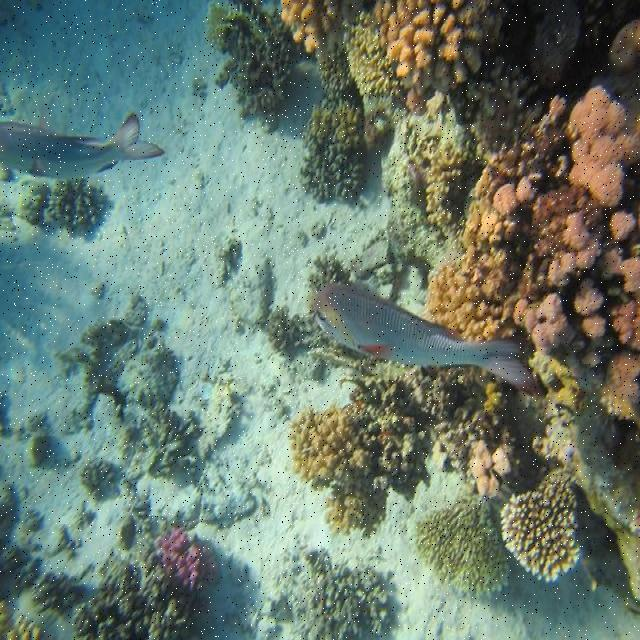fish: (311, 283, 543, 395), (1, 113, 165, 176)
reefs: (205, 1, 637, 555)
